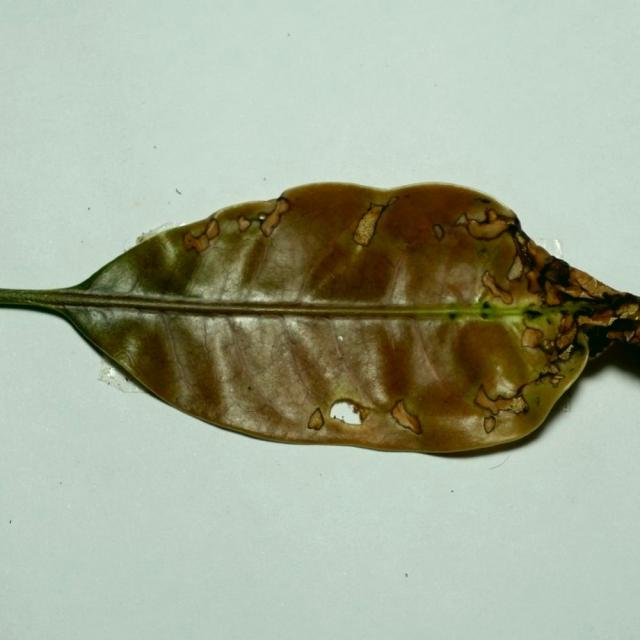Anthracnose: (484, 334, 570, 429), (184, 195, 289, 254), (432, 206, 518, 248), (353, 196, 399, 247), (532, 312, 578, 362), (316, 398, 385, 429), (522, 240, 559, 292), (561, 267, 616, 301), (183, 219, 220, 255), (509, 229, 536, 278), (480, 269, 514, 307), (473, 384, 502, 414), (605, 325, 636, 345), (610, 300, 640, 320), (586, 307, 619, 325), (521, 327, 544, 349), (307, 407, 324, 431), (432, 223, 445, 241), (484, 415, 496, 434)
Mango: (0, 182, 639, 460)
